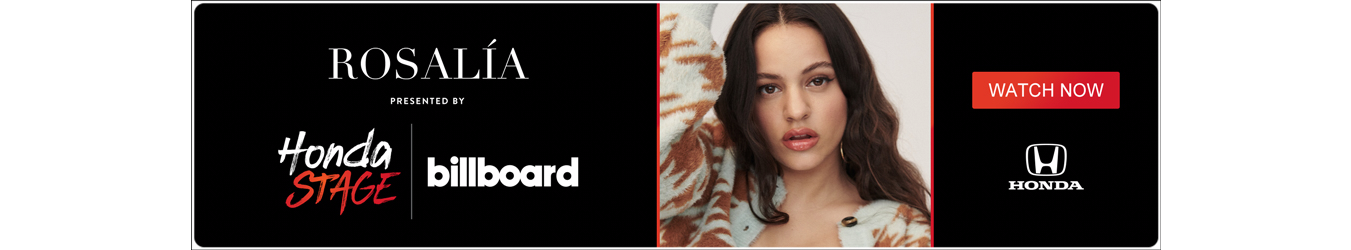fake_button: (959, 57, 1126, 126)
